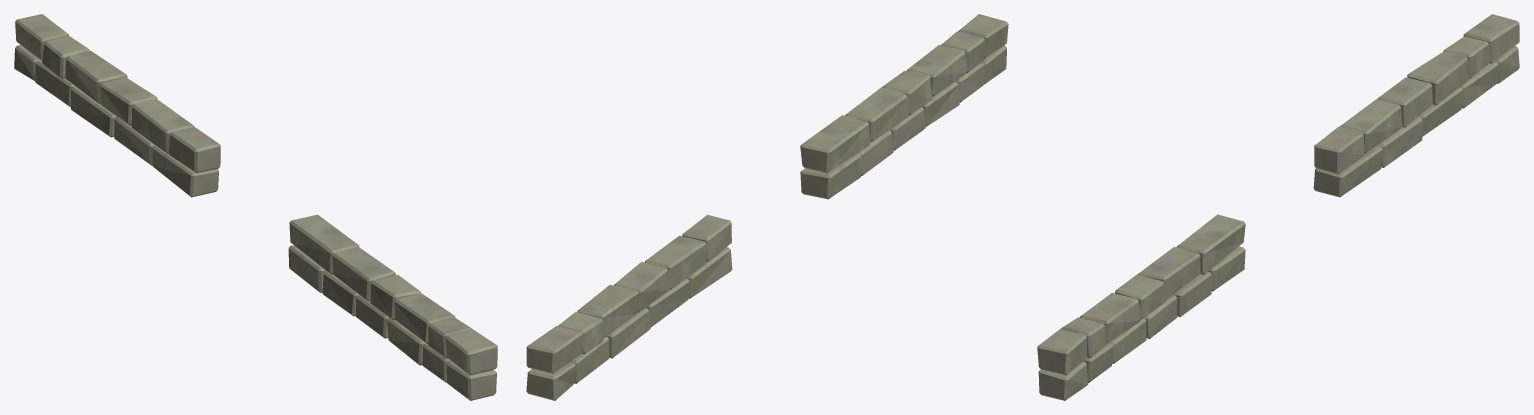
The model's file is SM_HH_V2_Stone_Front.fbx.
3 views of the same model, side by side, from view 1: azimuth 30°, elevation 25°; view 2: azimuth 150°, elevation 25°; view 3: azimuth 330°, elevation 25° (orthographic).
Parts seen in each view (by area): view 1: HH_V2_Stone_Front; view 2: HH_V2_Stone_Front; view 3: HH_V2_Stone_Front.
Boxes of the visible parts, box(x1,y1,x2,y2) form: HH_V2_Stone_Front: box(14, 14, 497, 400); HH_V2_Stone_Front: box(526, 14, 1008, 400); HH_V2_Stone_Front: box(1037, 14, 1519, 400).
Size of the model in its own units: 8.76 by 0.354 by 0.5424.
